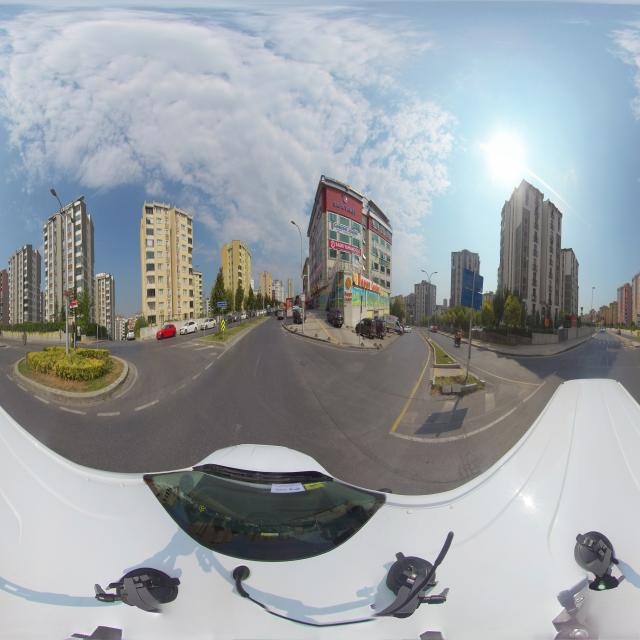SignStore: (330, 222, 360, 240), (329, 240, 361, 256), (357, 274, 380, 293), (375, 242, 390, 256), (311, 281, 321, 295), (379, 258, 390, 269), (317, 260, 323, 274)
